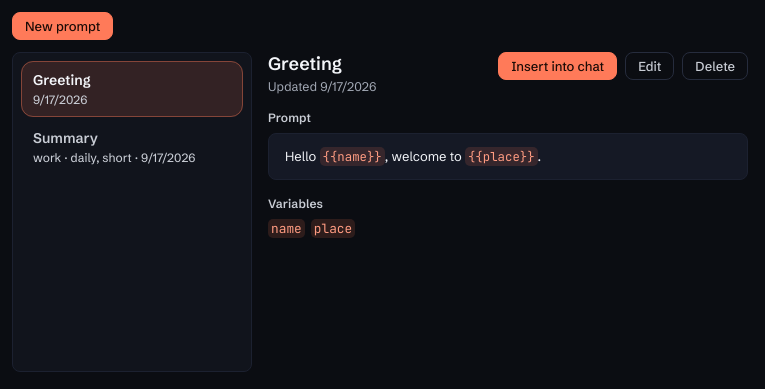
Test: list and detail › shows the selected prompt when another row is chosen, with its folder and tags
The image size is (765, 389).
Expected: the heading "Greeting" is shown, x1=268 y1=52 x2=342 y2=75
Click the button "Summary work · daily, short · 9/17/2026": [132, 147] box x1=21 y1=119 x2=243 y2=175
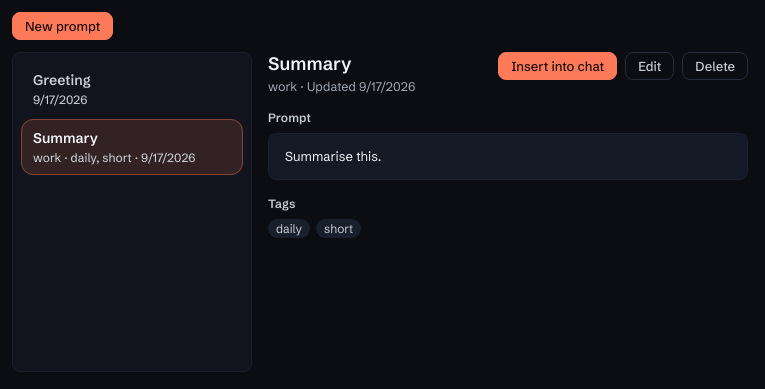
Expected: the heading "Summary" is shown, x1=268 y1=52 x2=352 y2=75
Expected: the text "Summarise this." is shown, x1=285 y1=148 x2=381 y2=164
Expected: the text "daily" is shown, x1=268 y1=219 x2=310 y2=238
